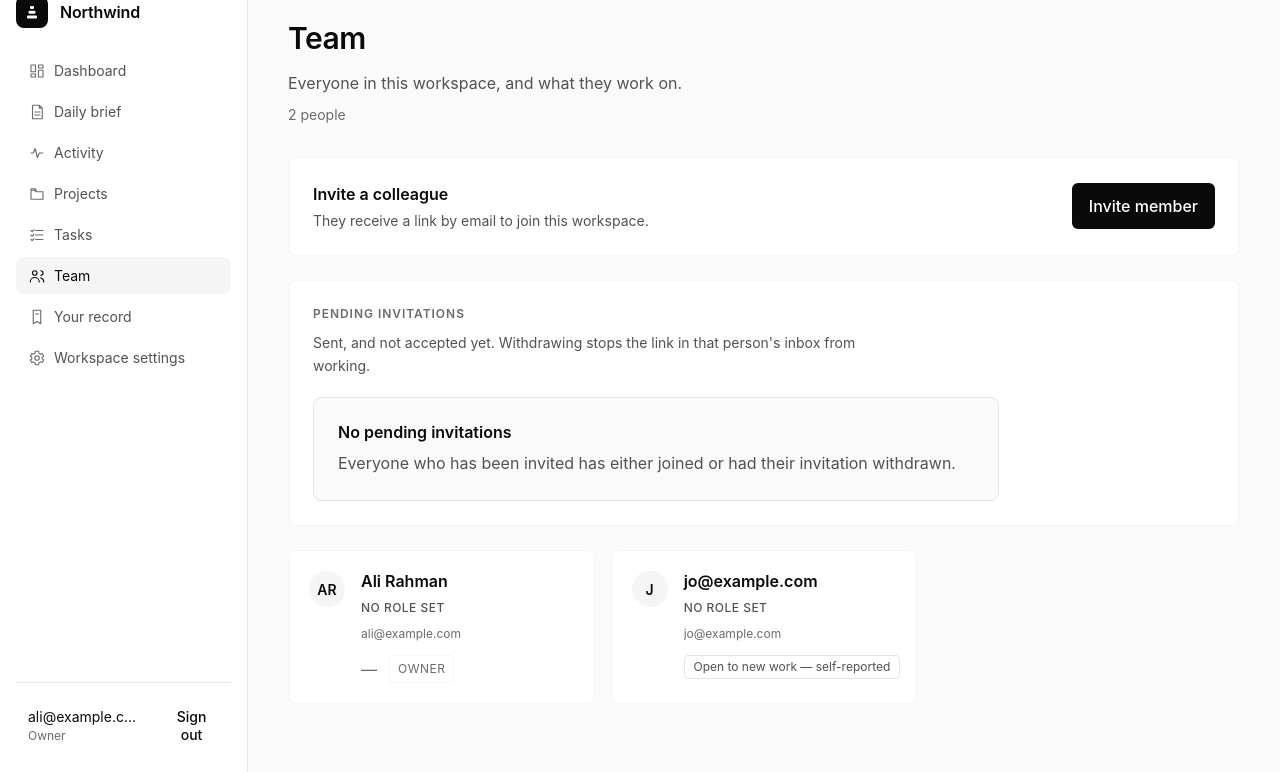
invitations that are still outstanding › shows an invitation just sent without a reload
Check: the heading "No pending invitations" is shown, box [338, 422, 512, 442]
Click the button "Invite member": click(1143, 206) [1072, 183, 1215, 229]
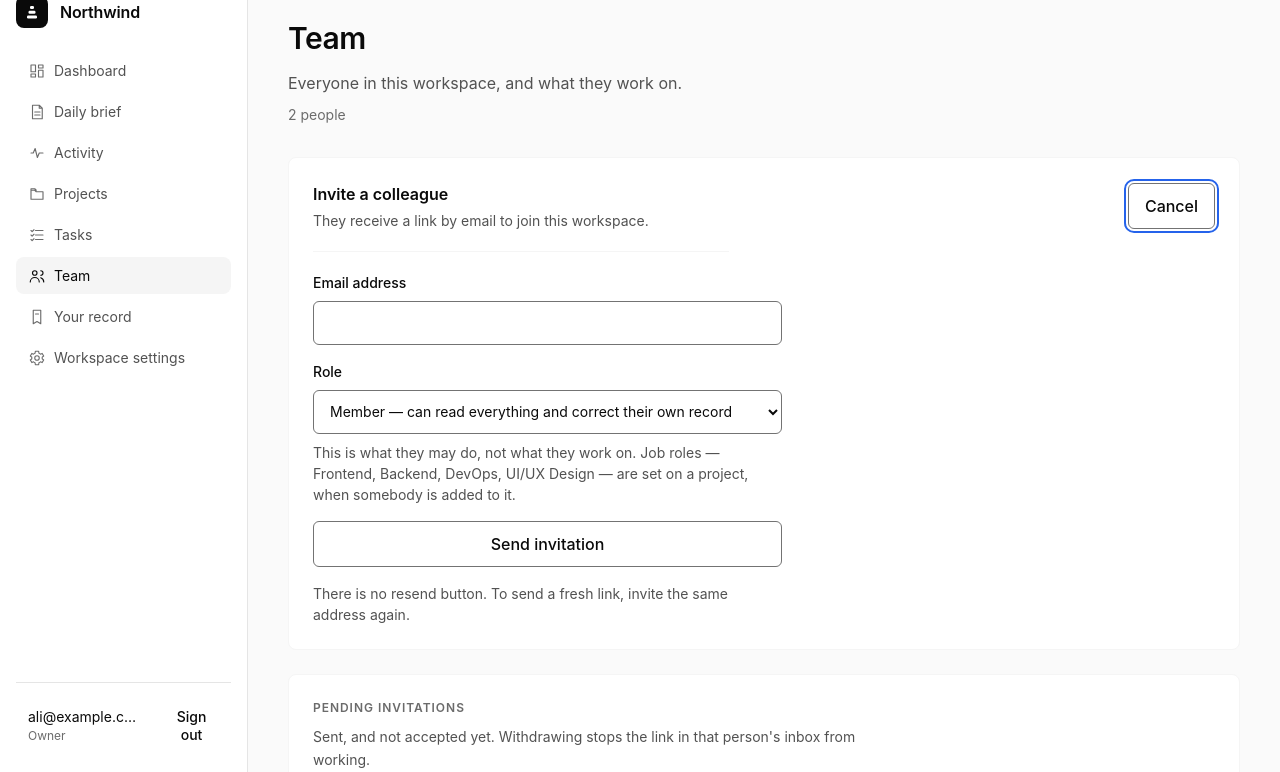
In the field labelled "Email address": (548, 323) [313, 301, 782, 345], type "new@example.com"
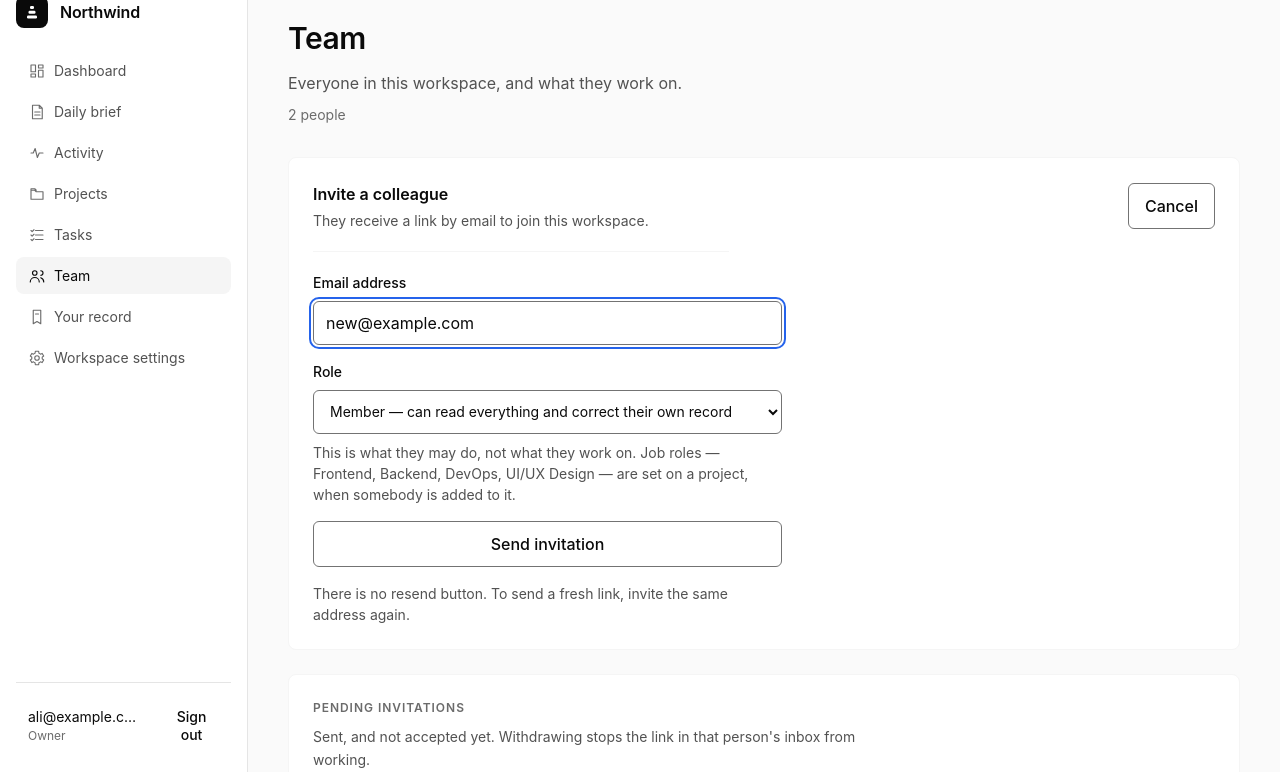
Click the button "Send invitation": click(548, 544) [313, 521, 782, 567]
(page scrolled)
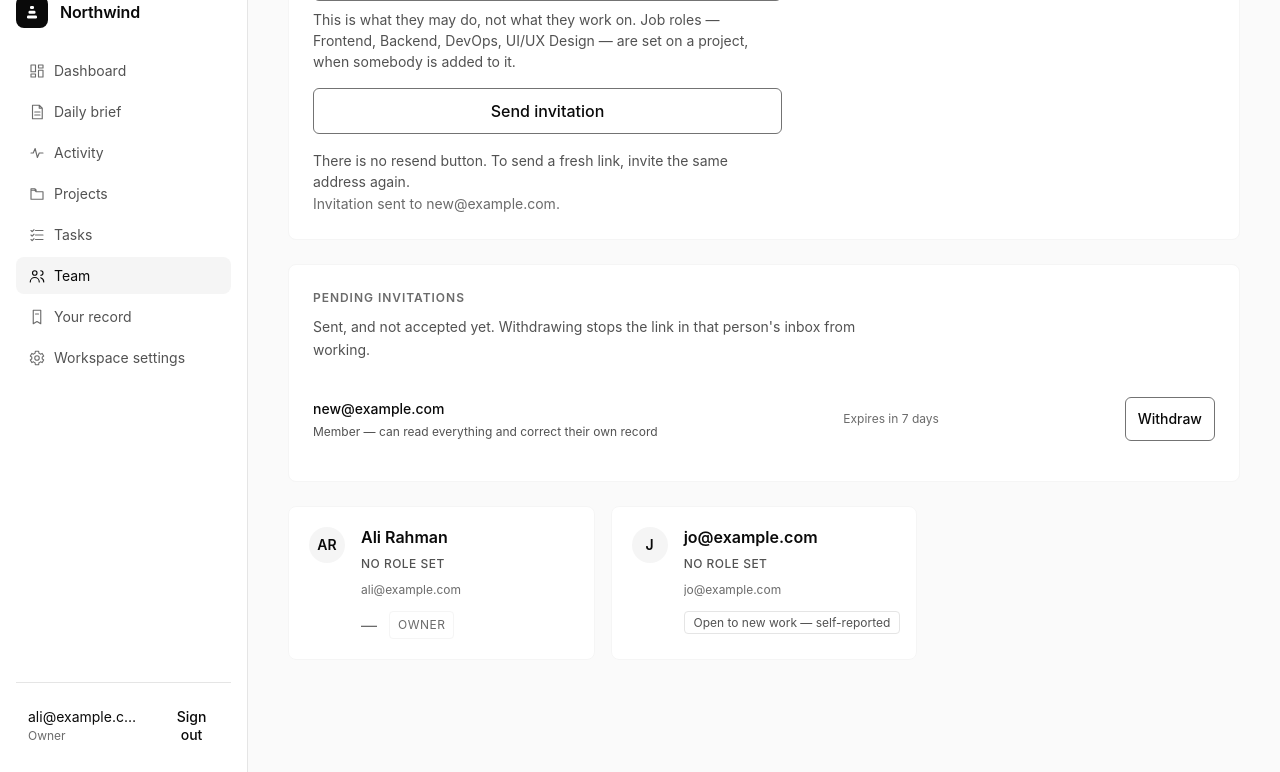
Check: the text "new@example.com" is shown, box [313, 400, 444, 417]
